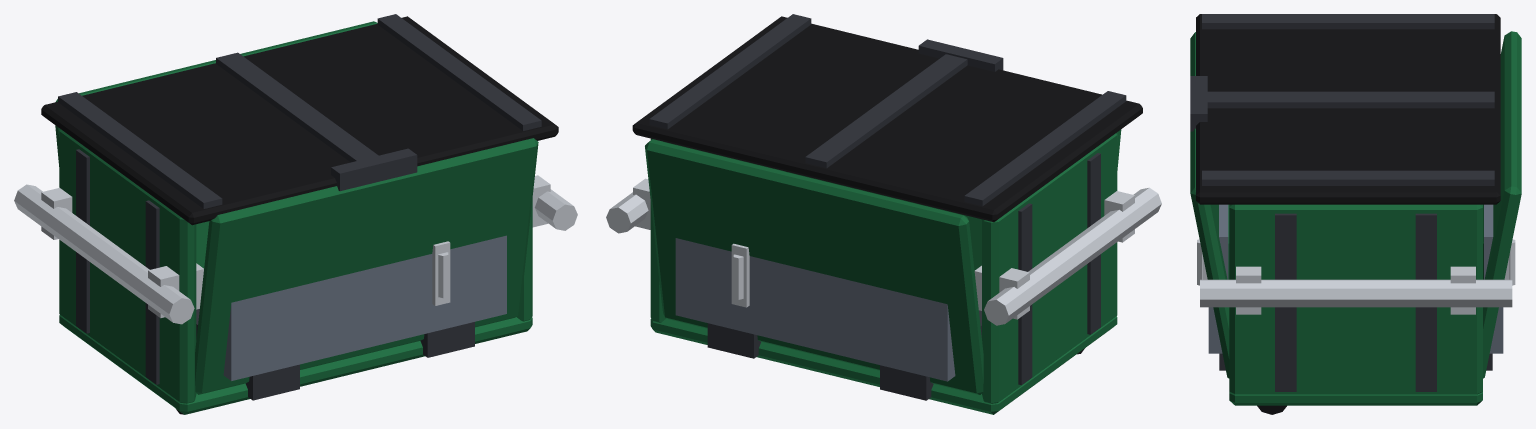
The model's file is Dumpster.glb.
3 renders of one model, left to right at view 1: azimuth 30°, elevation 25°; view 2: azimuth 150°, elevation 25°; view 3: azimuth 270°, elevation 25°, orthographic.
Parts seen in each view (by area): view 1: Body, LidMesh; view 2: Body, LidMesh; view 3: Body, LidMesh.
Boxes of the visible parts, bbox=[...] form: Body: bbox=[14, 21, 577, 414]; LidMesh: bbox=[41, 14, 558, 225]; Body: bbox=[606, 129, 1161, 414]; LidMesh: bbox=[632, 14, 1142, 222]; Body: bbox=[1190, 31, 1521, 405]; LidMesh: bbox=[1190, 14, 1500, 204].
Size of the model in its own units: 2.43 by 1.37 by 1.7.
